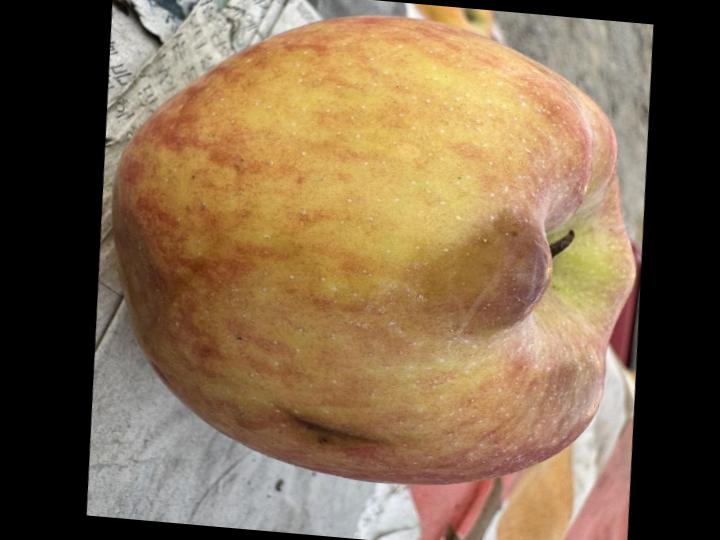apple: (114, 15, 634, 484)
bruise_discoloration: (423, 217, 551, 325)
surface_damage: (284, 409, 381, 442)
